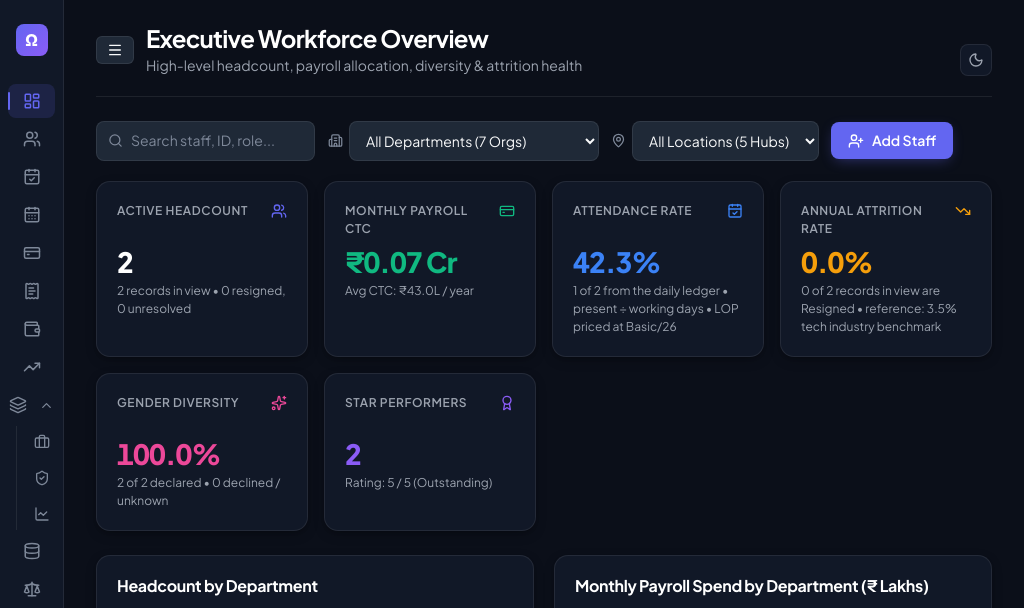
Test: Attendance integration — state and persistence › deleting a record through the cell editor removes it from the store
The image size is (1024, 608).
Later steps or results of the test are not shown.
Click the button named "Time & Attendance" at {"x": 32, "y": 177}, box 8,160 -> 55,194
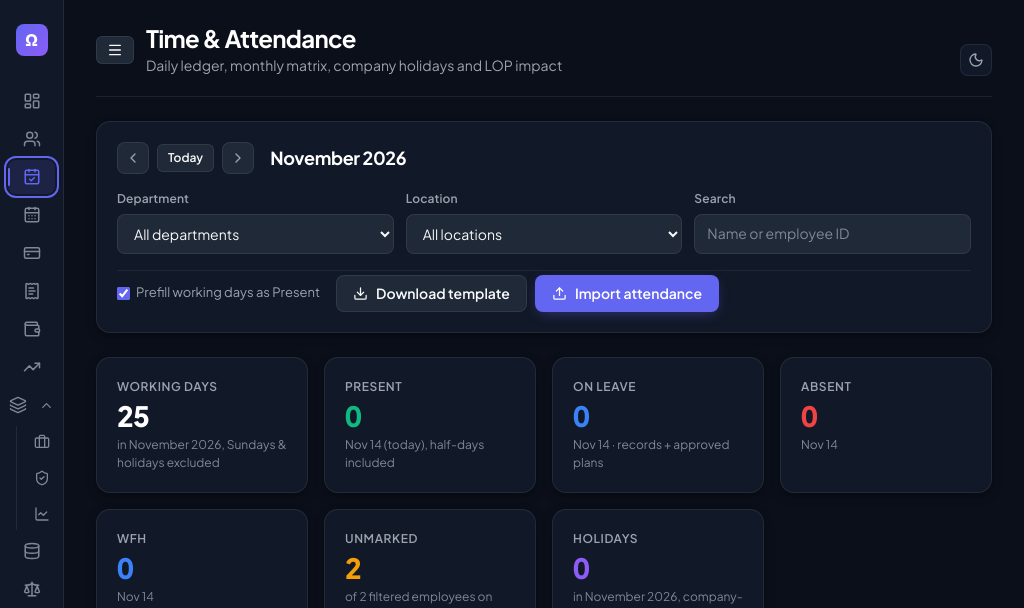
Expected: the heading "November 2026" is shown, 270,144 -> 406,171
